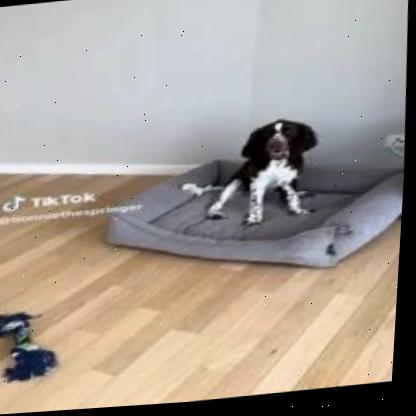dog: (176, 113, 325, 233)
